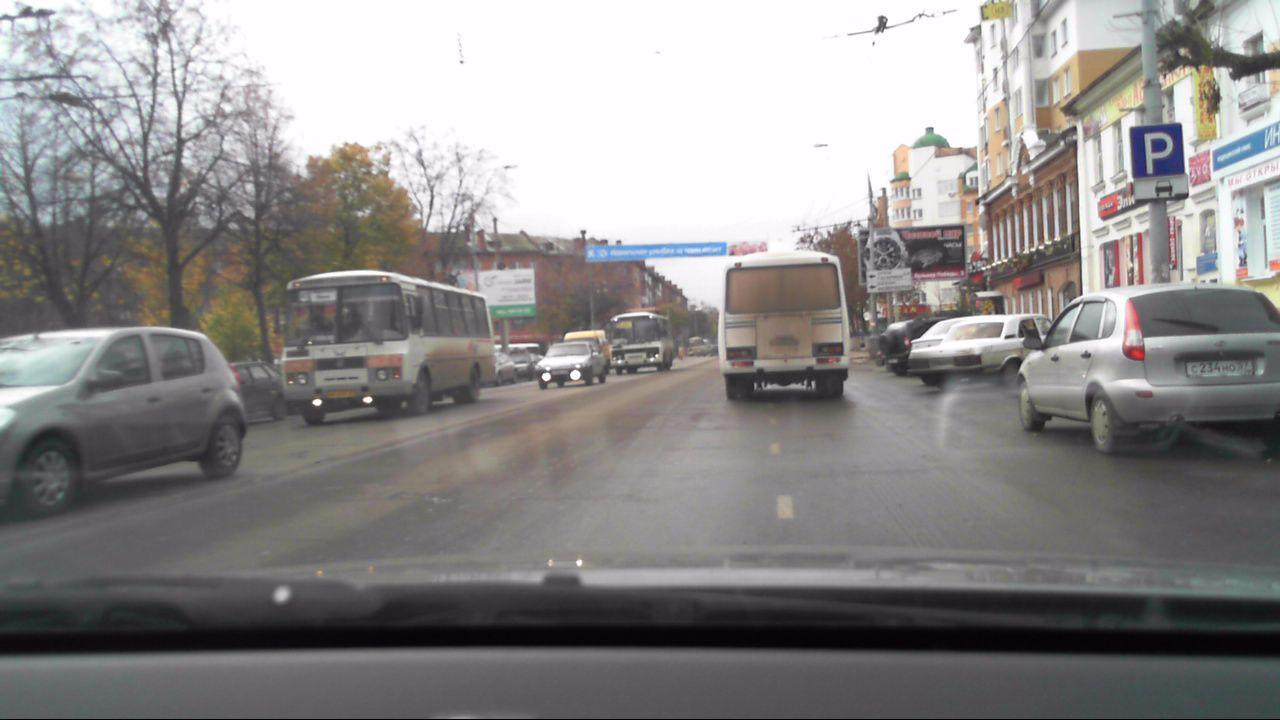6_4: (1129, 120, 1187, 176)
8_6_1: (1133, 178, 1189, 197)
